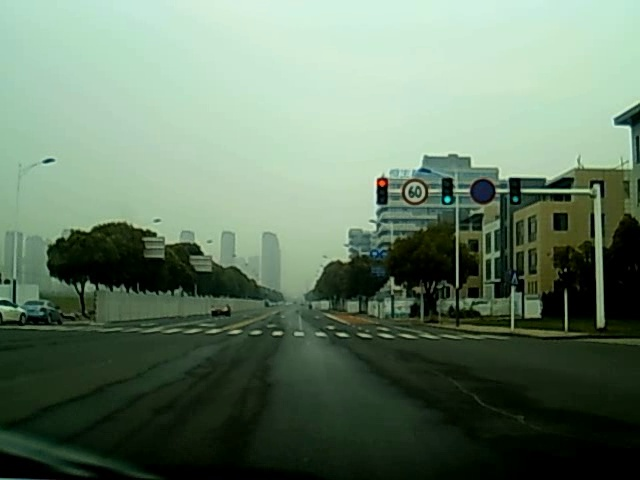Traffic_Light_go: (508, 180, 520, 207), (441, 179, 453, 205)
Traffic_Light_stop: (378, 179, 387, 204)
